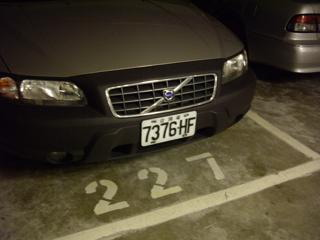plate: (138, 109, 198, 142)
